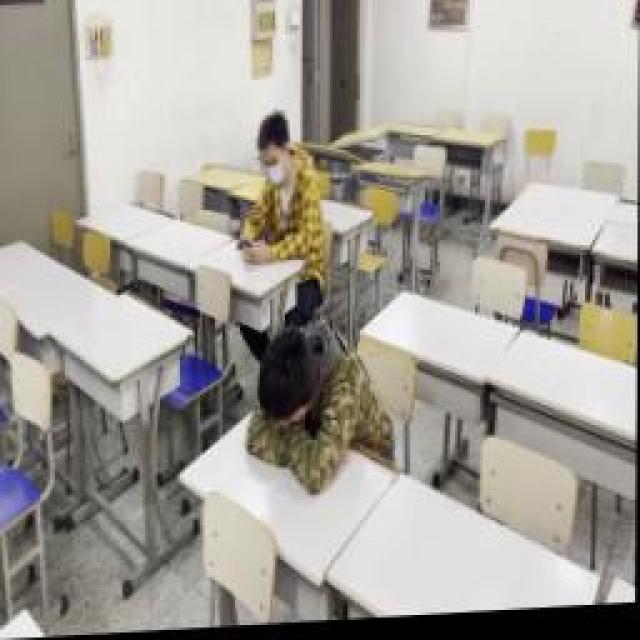phone: (242, 120, 320, 268)
sleep: (247, 320, 375, 495)
